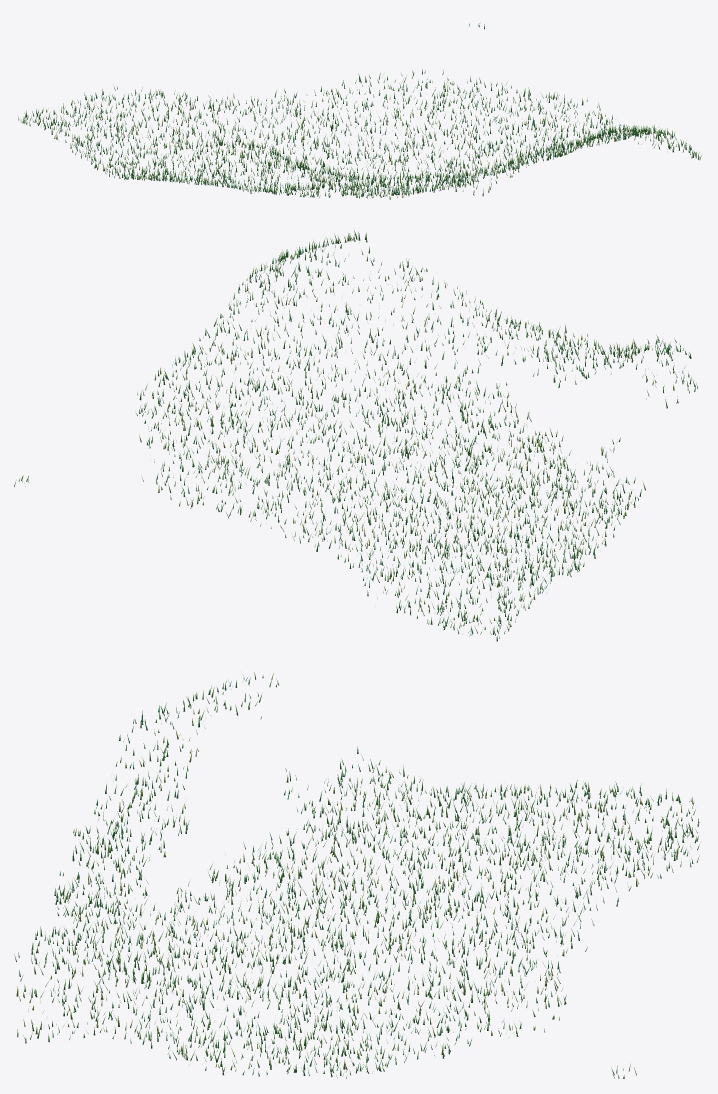
3 renders of one model, top to bottom at view 1: azimuth 30°, elevation 25°; view 2: azimuth 150°, elevation 25°; view 3: azimuth 270°, elevation 25°, orthographic. The views are drawn at different scales.
Visible parts, largest first — view 1: gc_41; view 2: gc_41; view 3: gc_41.
Boxes of the visible parts, bbox=[...] form: gc_41: bbox=[18, 23, 701, 199]; gc_41: bbox=[14, 230, 697, 641]; gc_41: bbox=[14, 672, 699, 1078].
Bounding box in the file's own units: 18.09 × 4.12 × 18.19.
1 material, 1 textured.
